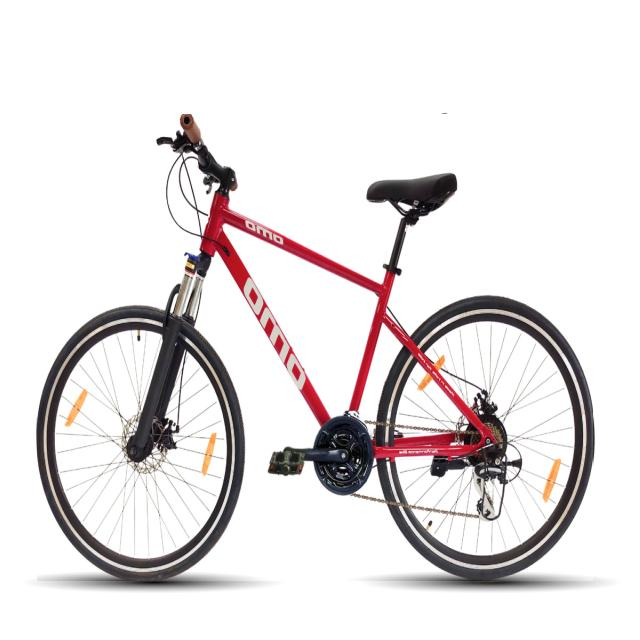bicycle: (38, 115, 593, 581)
